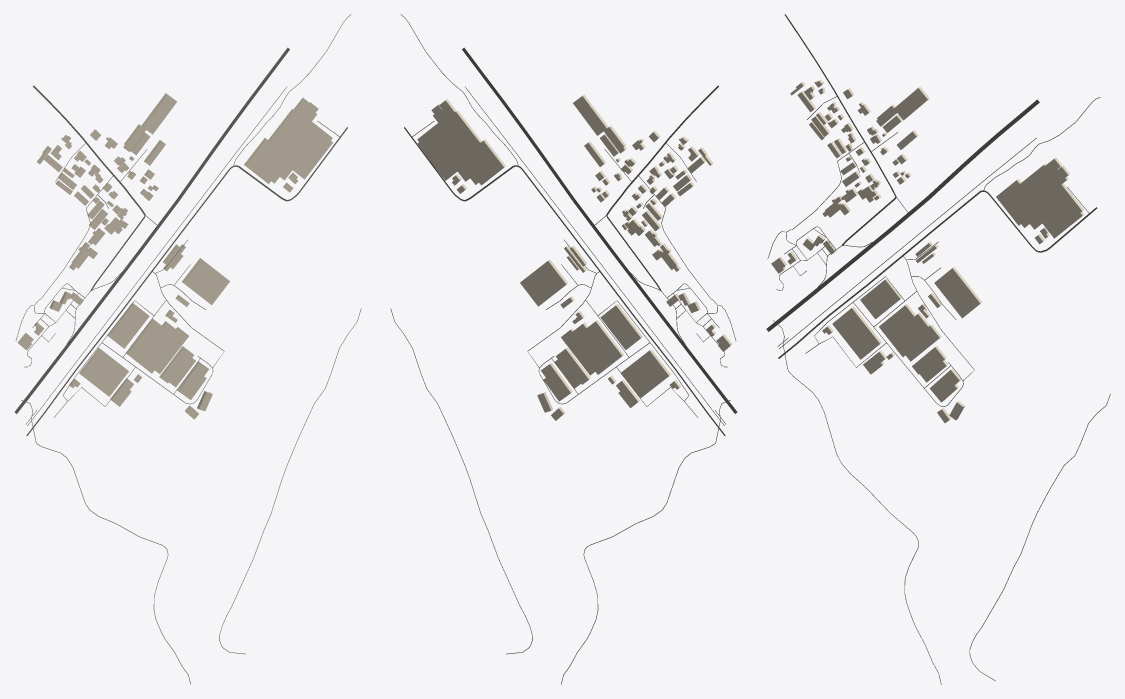
The model's file is historic-palestine-06_24_3476_3187.glb.
The picture shows the model from 3 angles, left to right: view 1: azimuth 30°, elevation 25°; view 2: azimuth 150°, elevation 25°; view 3: azimuth 330°, elevation 25°; orthographic projection.
Visible parts, largest first — view 1: Building_.002, Building_.009, Road 410.001, Building_.010, Building_.003, Building_.008, Building_.033, Road .004, Building_.013, Building_.011, Road; view 2: Building_.002, Building_.009, Road 410.001, Building_.010, Building_.003, Building_.008, Building_.033, Road .004, Building_.013, Building_.011, Road; view 3: Building_.002, Building_.009, Road 410.001, Building_.010, Building_.003, Building_.008, Road .004, Building_.033, Building_.013, Building_.011, Road.
Boxes of the visible parts, x1,y1,x2,y2 form: Building_.002: (244, 98, 332, 183); Building_.009: (126, 318, 188, 373); Road 410.001: (28, 47, 289, 396); Building_.010: (79, 348, 128, 396); Building_.003: (182, 258, 229, 304); Building_.008: (107, 302, 149, 348); Building_.033: (123, 93, 176, 151); Road .004: (44, 127, 347, 412); Building_.013: (159, 346, 195, 387); Building_.011: (177, 361, 208, 399); Road: (33, 85, 145, 290); Building_.002: (417, 99, 505, 185); Building_.009: (561, 320, 623, 375); Road 410.001: (462, 47, 723, 396); Building_.010: (621, 349, 670, 398); Building_.003: (520, 259, 567, 306); Building_.008: (600, 304, 642, 349); Building_.033: (573, 94, 626, 153); Road .004: (404, 127, 707, 412); Building_.013: (554, 347, 590, 388); Building_.011: (541, 362, 572, 401); Road: (606, 85, 718, 290); Building_.002: (996, 157, 1084, 238); Building_.009: (879, 304, 941, 361); Road 410.001: (780, 99, 1039, 320); Building_.010: (832, 307, 881, 359); Building_.003: (934, 267, 981, 318); Building_.008: (860, 278, 901, 318); Road .004: (796, 190, 1097, 344); Building_.033: (876, 86, 929, 126); Building_.013: (912, 346, 948, 382); Building_.011: (930, 368, 961, 402); Road: (784, 14, 896, 245).
Bounding box in the file's own units: 794 × 1393 × 8.7.
